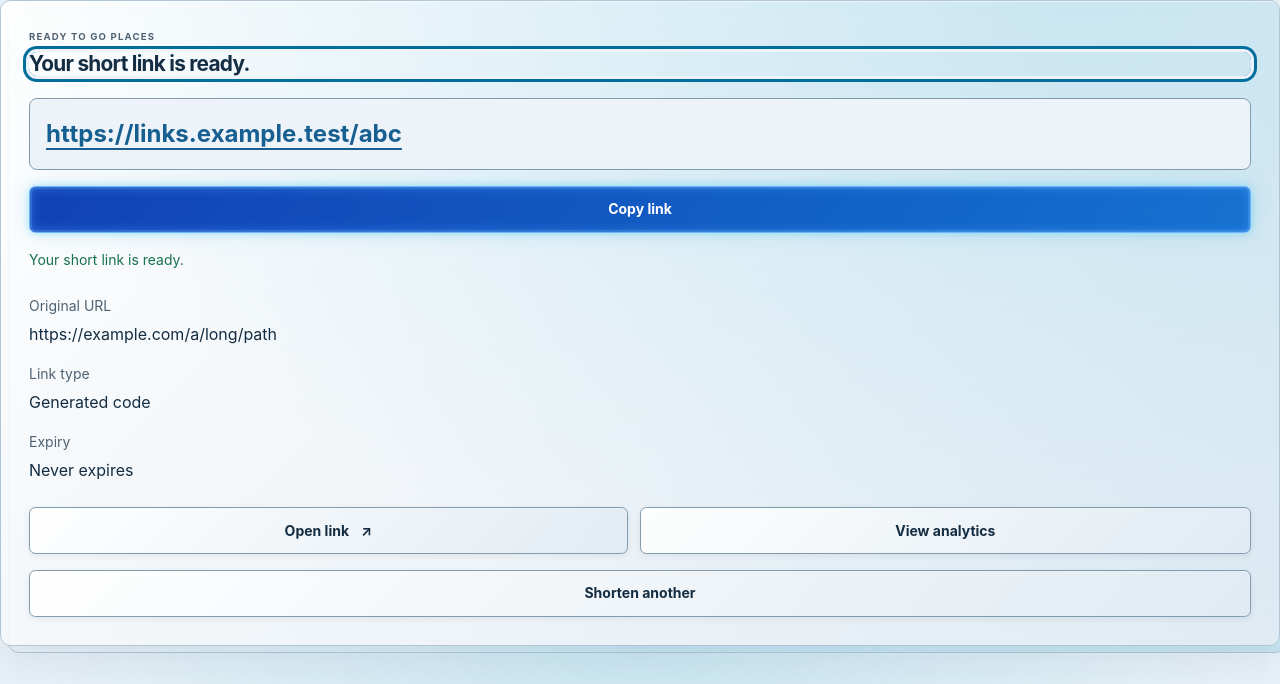
it: CreationResult_clipboardUnavailable_showsManualCopyFallback (missing)
The width and height of the screenshot is (1280, 684).
Click the button "Copy link" at point(640, 210), box [29,186,1251,233]
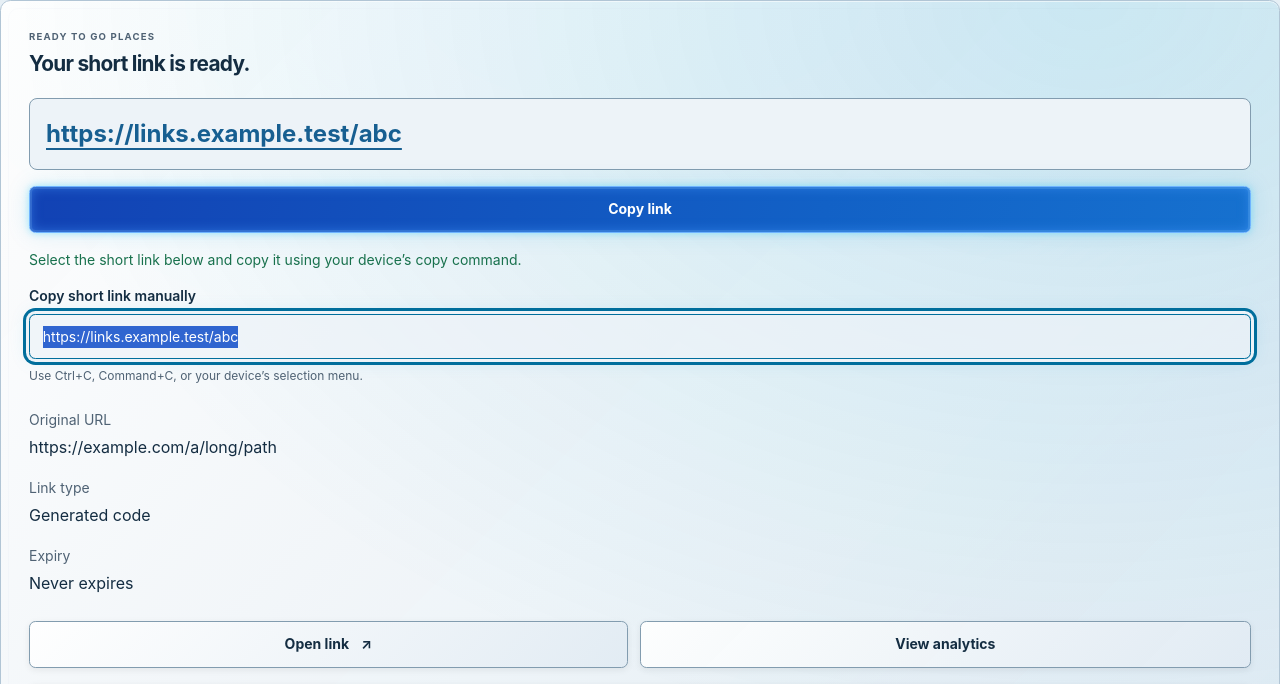
Check: the field labelled "Copy short link manually" holds "https://links.example.test/abc", box [29,314,1251,359]
Check: the message shows "copy command", box [29,251,522,268]
